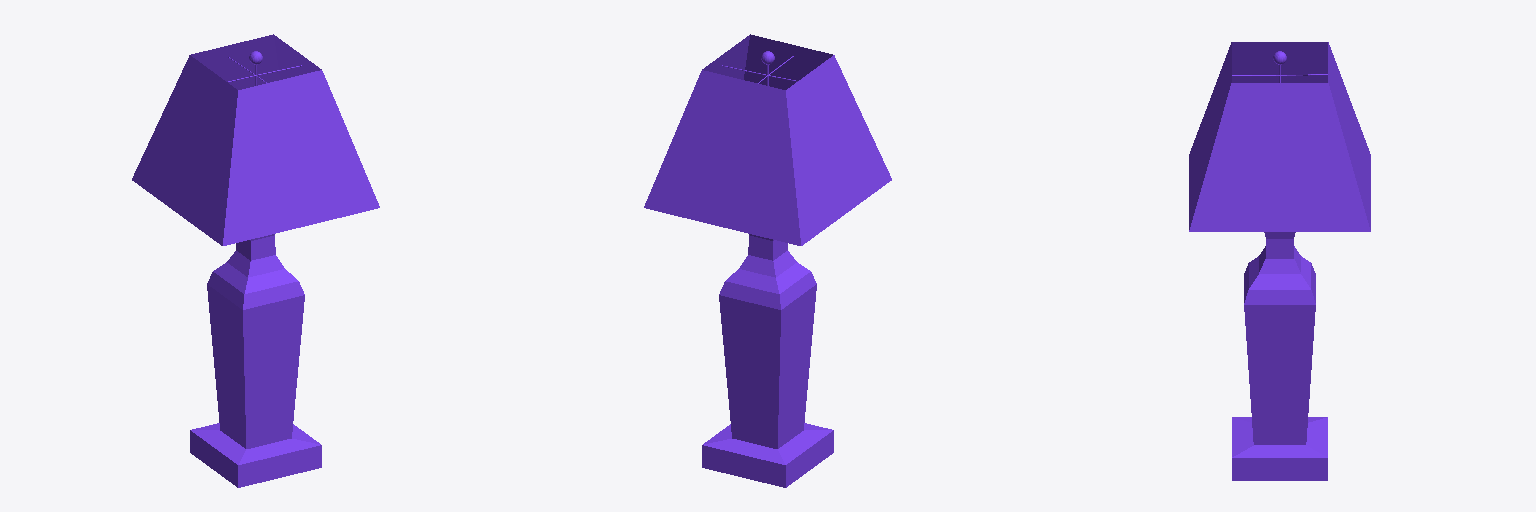
Rendered from Lamp_Sub_Ready.obj.
The picture shows the model from 3 angles: view 1: azimuth 30°, elevation 25°; view 2: azimuth 150°, elevation 25°; view 3: azimuth 270°, elevation 25°; orthographic projection.
Parts seen in each view (by area): view 1: pCylinder9; view 2: pCylinder9; view 3: pCylinder9.
Boxes of the visible parts, x1,y1,x2,y2 form: pCylinder9: [132, 34, 379, 487]; pCylinder9: [644, 34, 891, 487]; pCylinder9: [1189, 42, 1370, 480].
Bounding box in the file's own units: 2.4 × 5.93 × 2.4.